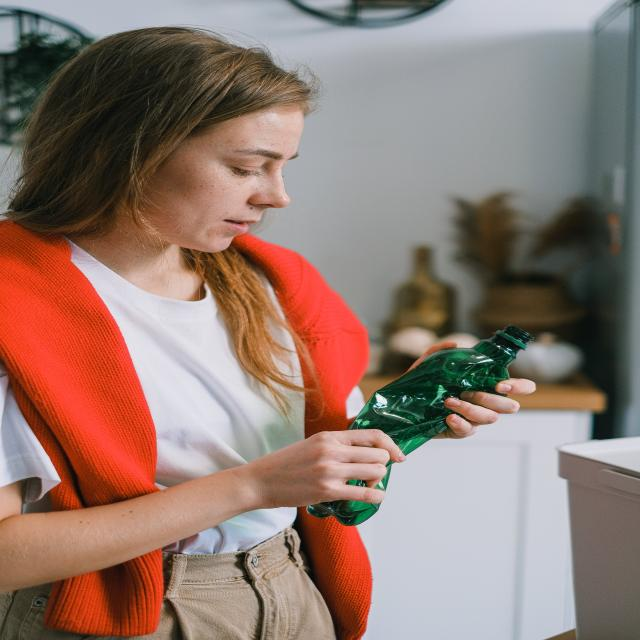plastic: (398, 364, 468, 426)
